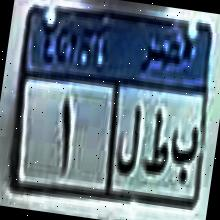1: (51, 93, 81, 180)
Taa: (141, 107, 174, 182)
baa: (165, 122, 200, 192)
laam: (112, 101, 147, 178)
